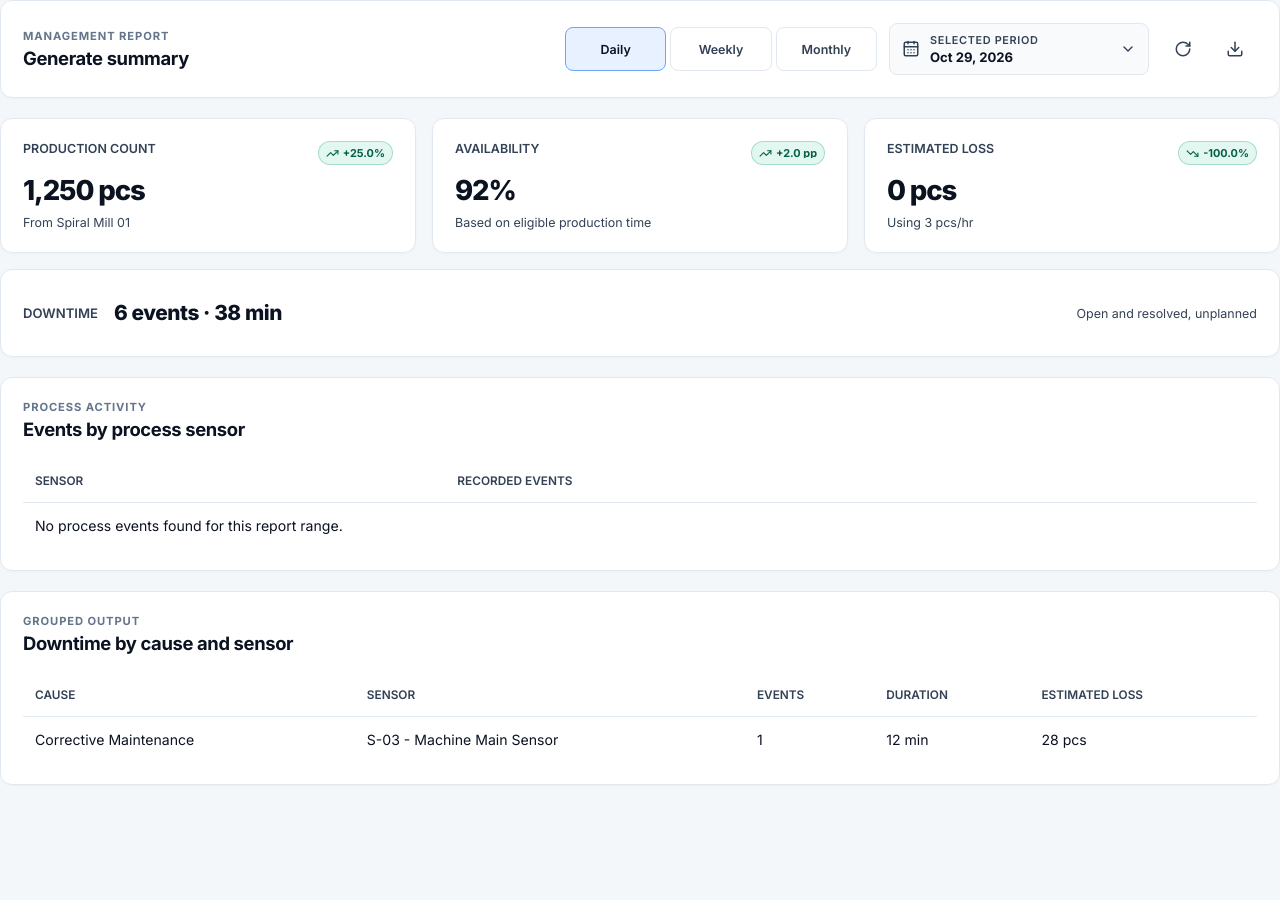
Test case: ReportsSection request states › surfaces export failures without discarding the loaded report
Click the button named "Export report" at (1235, 49), box [1213,27,1257,71]
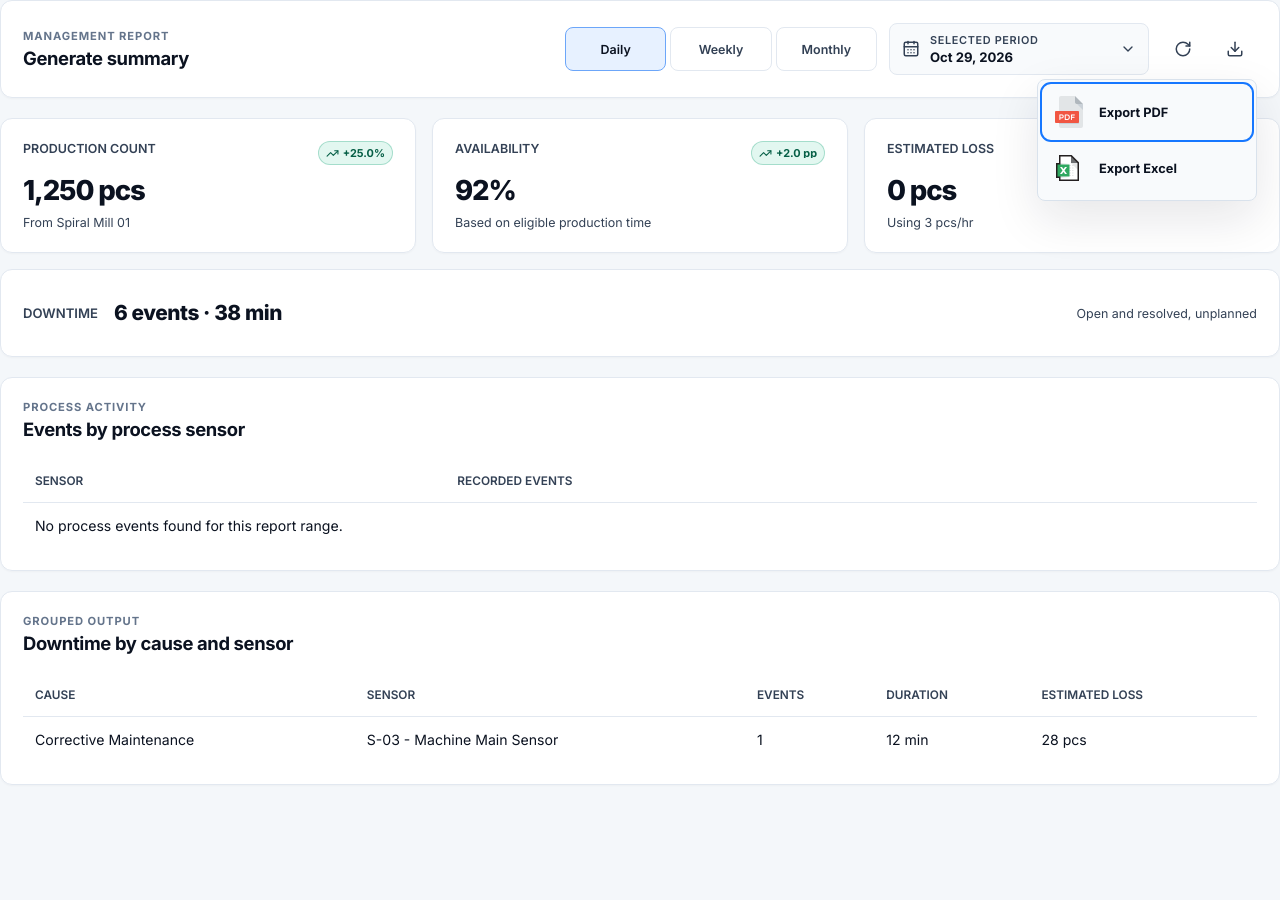
Click the button "Export Excel" at (1147, 168), box [1044,142,1250,194]
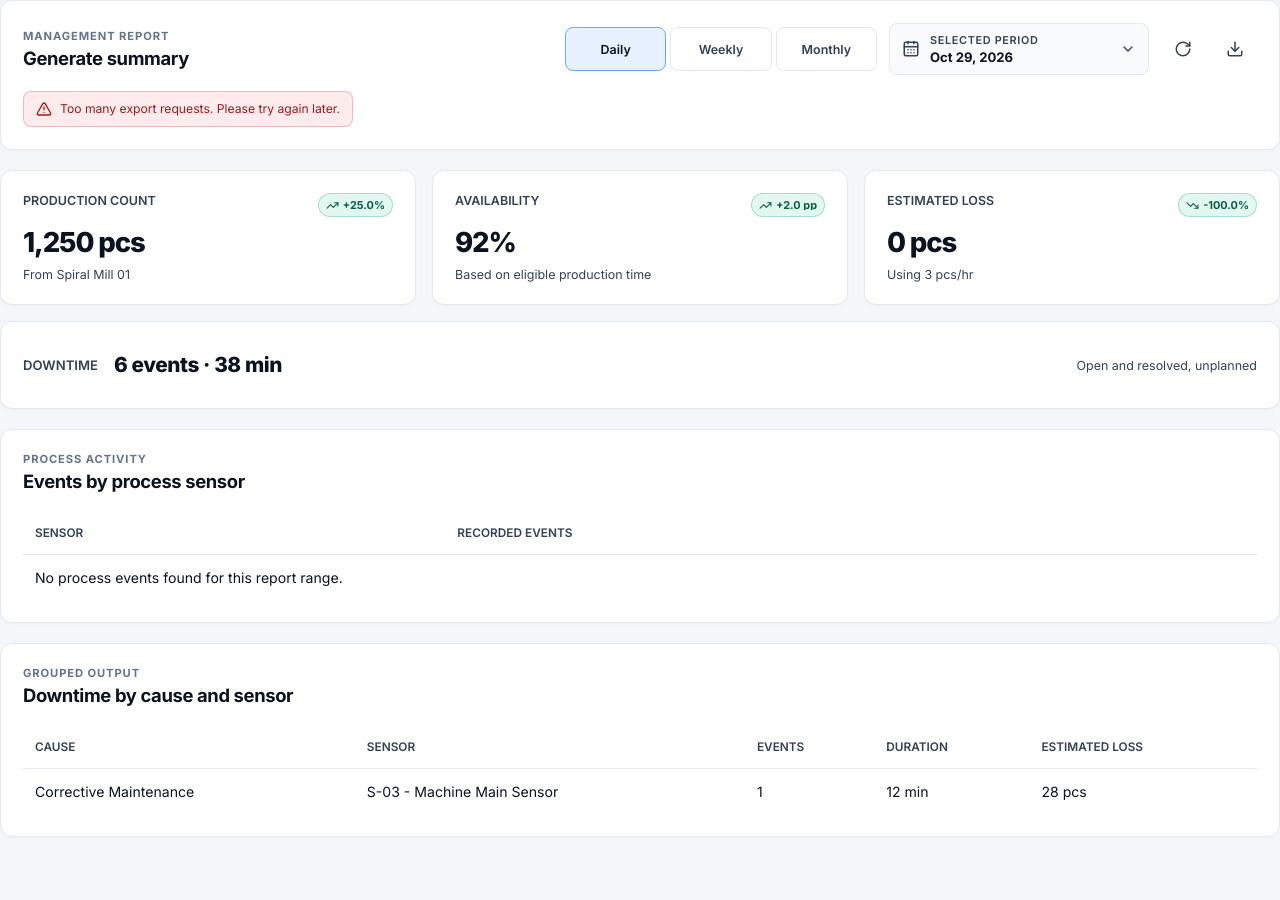
Expected: the text "Corrective Maintenance" is shown, [23,769,355,814]
Now the message reads "Too many export requests. Please try again later.", box [60,102,340,116]
